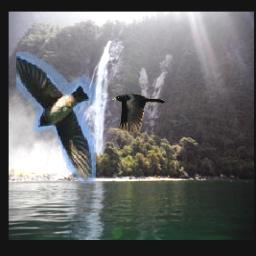Crow: (112, 93, 166, 133)
Swallow: (15, 53, 95, 184)
